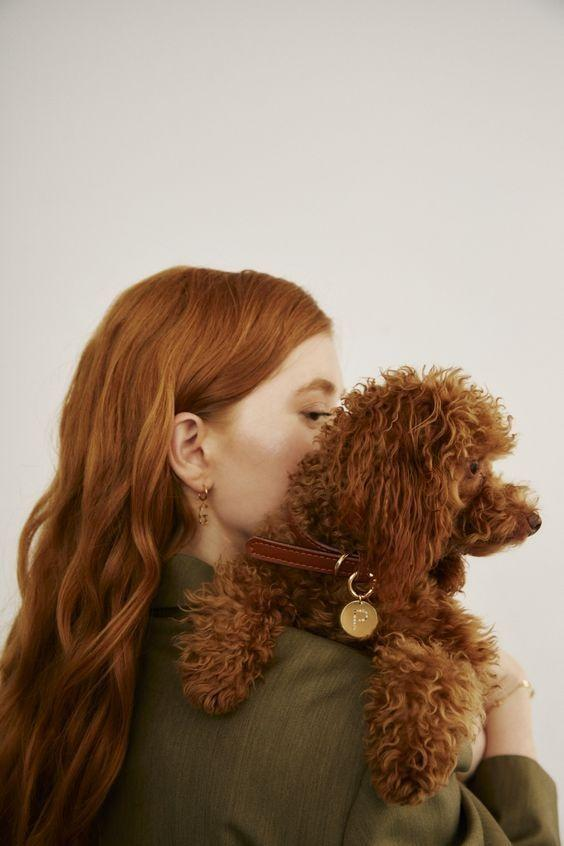adult_dog: (173, 365, 544, 806)
non-dog: (0, 264, 560, 846)
